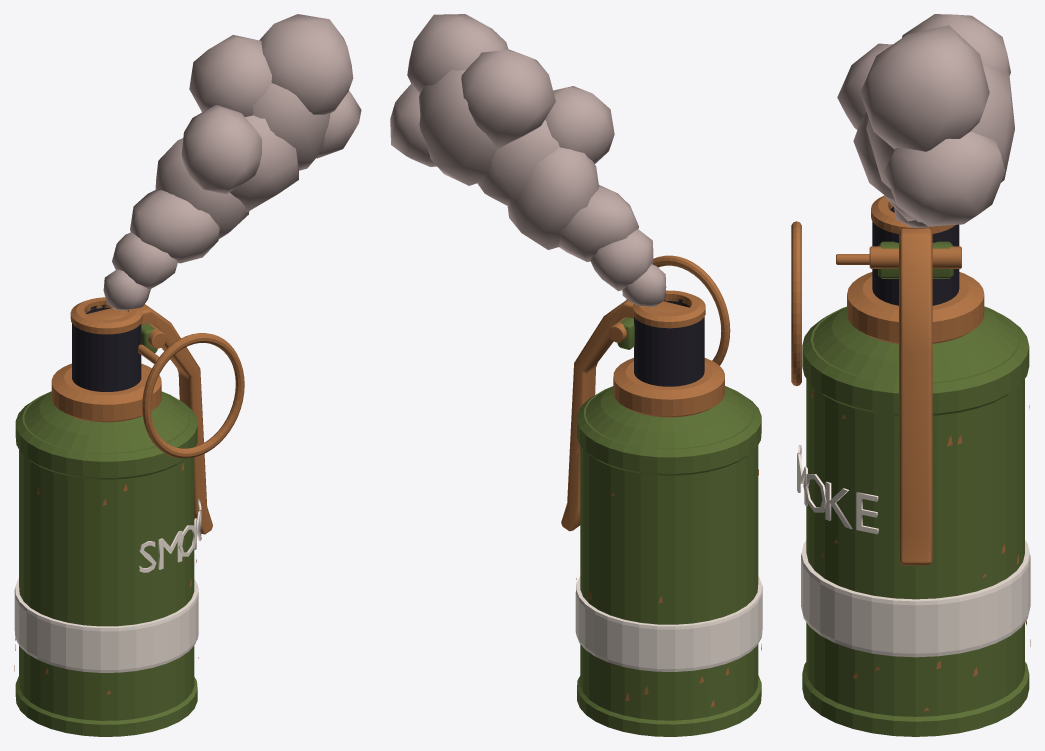
Rendered from thr.smoke-grenade.glb.
3 views of the same model, side by side, from view 1: azimuth 30°, elevation 25°; view 2: azimuth 150°, elevation 25°; view 3: azimuth 270°, elevation 25° (orthographic). The views are drawn at different scales.
Parts seen in each view (by area): view 1: object 2, body; view 2: object 2, body; view 3: object 2, body.
Boxes of the visible parts, x1,y1,x2,y2 form: object 2: (14,14,361,694); body: (15,323,197,736); object 2: (390,14,762,707); body: (577,317,761,736); object 2: (791,14,1030,711); body: (802,241,1029,736).
Size of the model in its own units: 0.3484 by 0.6163 by 0.1708.
